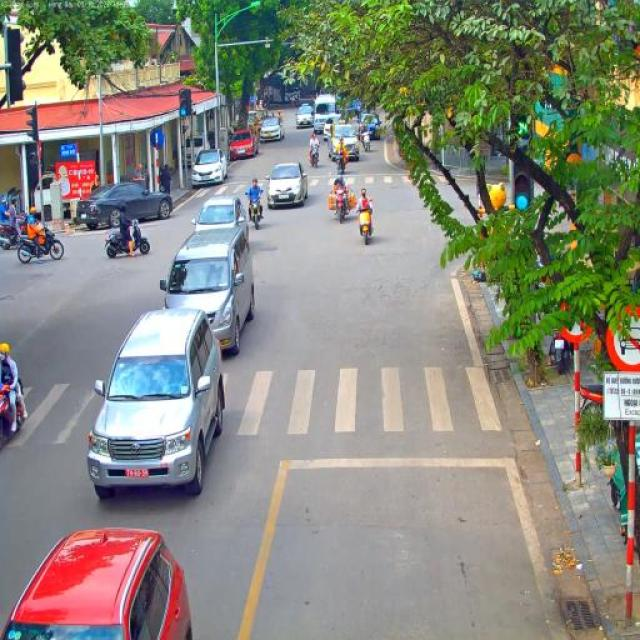car: (86, 306, 226, 500), (0, 525, 194, 640), (159, 222, 256, 354), (74, 181, 174, 230), (190, 196, 250, 254), (266, 161, 308, 209), (192, 148, 228, 186), (327, 123, 359, 162), (228, 130, 258, 160), (259, 117, 285, 143), (358, 113, 382, 141), (322, 113, 340, 139), (295, 104, 314, 128)
motorcycle: (16, 221, 65, 264), (103, 219, 151, 259), (0, 380, 26, 450), (0, 210, 31, 250), (551, 330, 570, 374), (331, 184, 352, 223), (355, 206, 374, 246), (572, 384, 604, 405), (246, 192, 264, 229), (334, 148, 348, 174), (308, 144, 321, 168), (360, 132, 370, 152)
truck: (266, 68, 300, 103), (312, 93, 338, 136), (244, 109, 265, 138)
